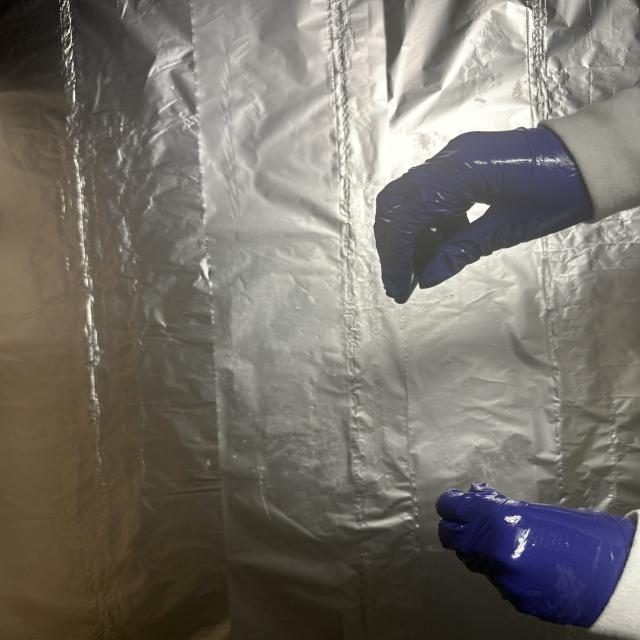gloves_contaminated: (374, 127, 593, 297), (436, 483, 634, 626)
